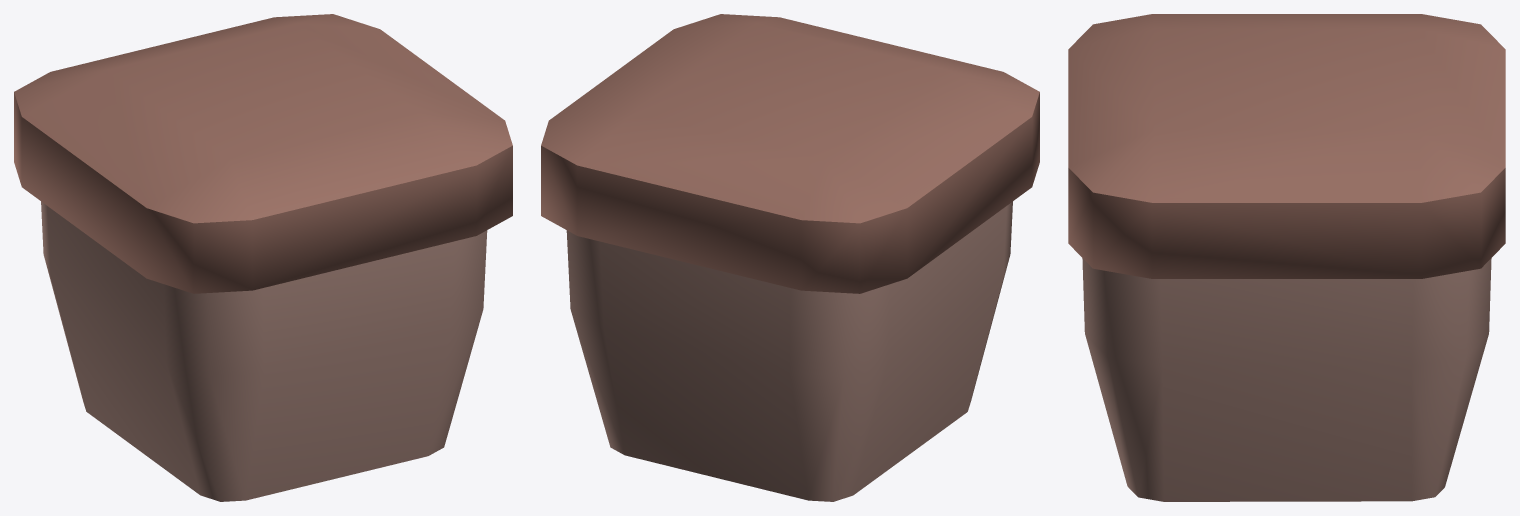
File: ottoman_006.glb
The picture shows the model from 3 angles, left to right: view 1: azimuth 30°, elevation 25°; view 2: azimuth 150°, elevation 25°; view 3: azimuth 270°, elevation 25°; orthographic projection. The views are drawn at different scales.
Parts seen in each view (by area): view 1: ottoman_006; view 2: ottoman_006; view 3: ottoman_006.
Part boxes in pixels (x1,y1,x2,y2): ottoman_006: [14, 14, 512, 501]; ottoman_006: [541, 14, 1039, 501]; ottoman_006: [1068, 14, 1505, 501].
Size of the model in its own units: 0.3481 by 0.3087 by 0.3405.
Materials: 1 (1 with a texture image).
